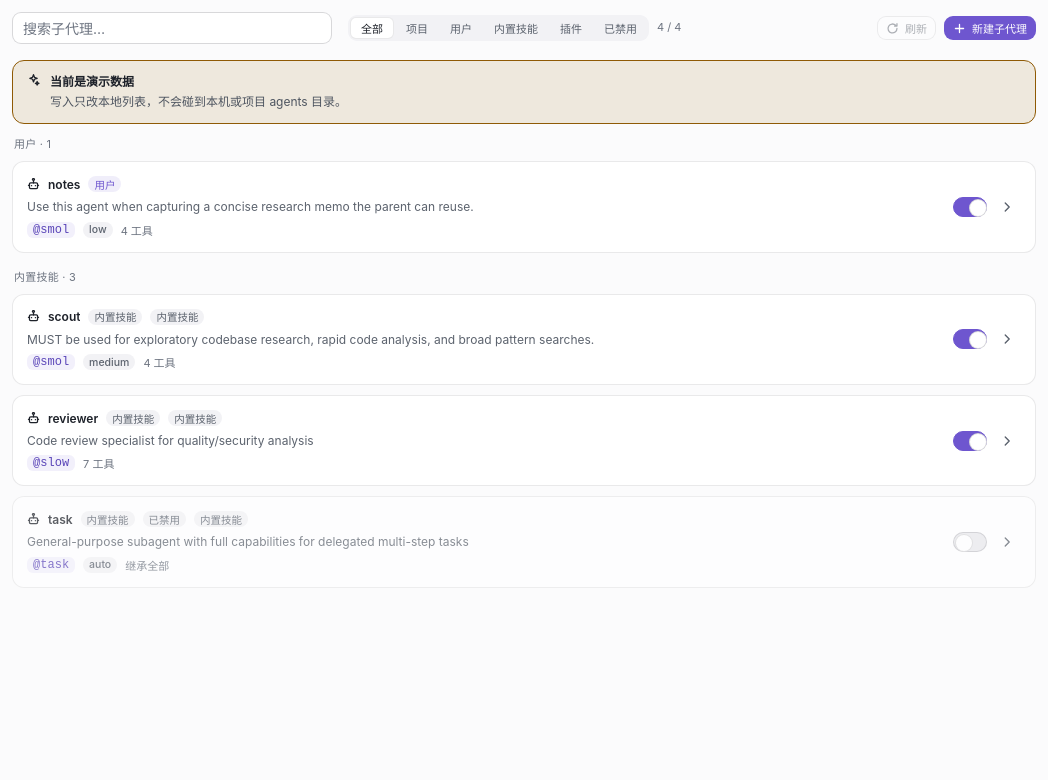
SubagentsPanel create editor › adds a preview draft to the local list on save
Click the button "新建子代理": (990,28) [944, 16, 1036, 40]
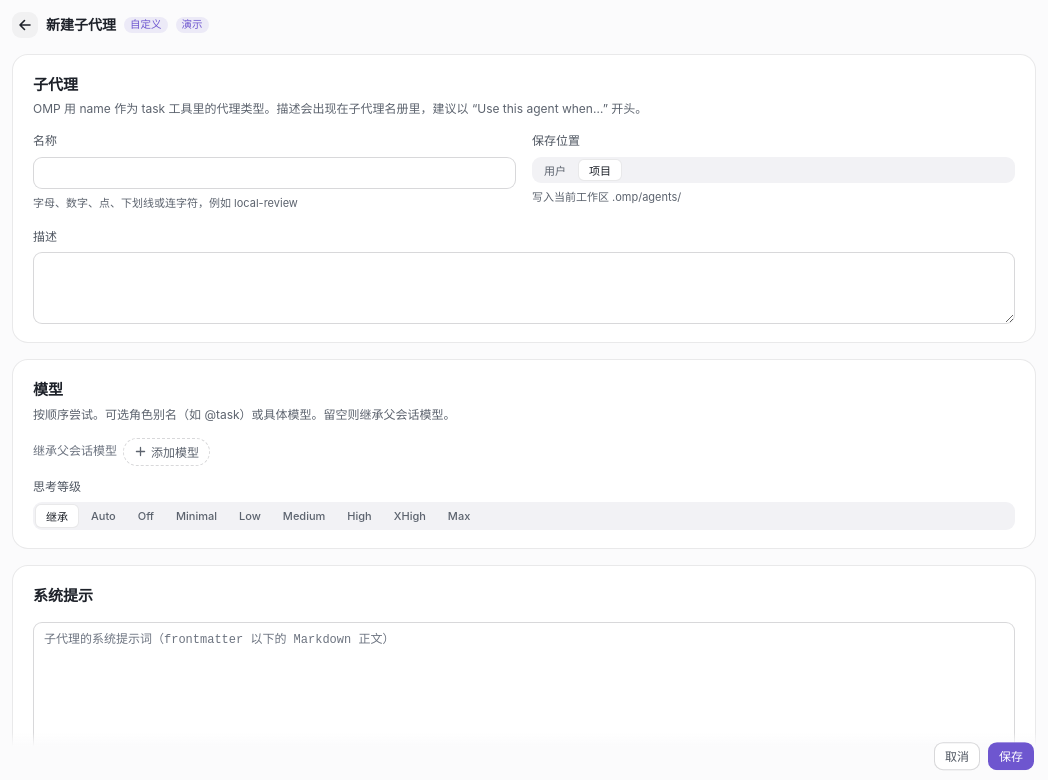
expect the button "保存" is shown: met, box [988, 742, 1034, 770]
In the field labelled "名称": (274,173) [33, 157, 516, 189], type "memo"
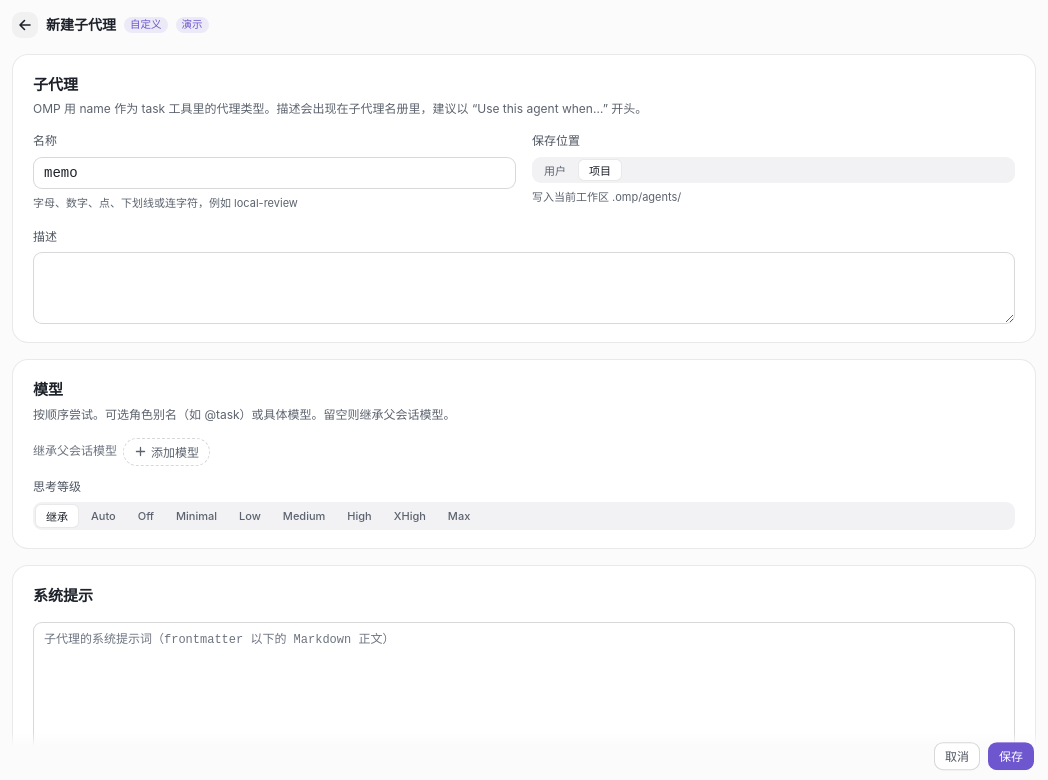
In the text box labelled "描述": (524,288) [33, 252, 1015, 324], type "Use this agent when writing memos."
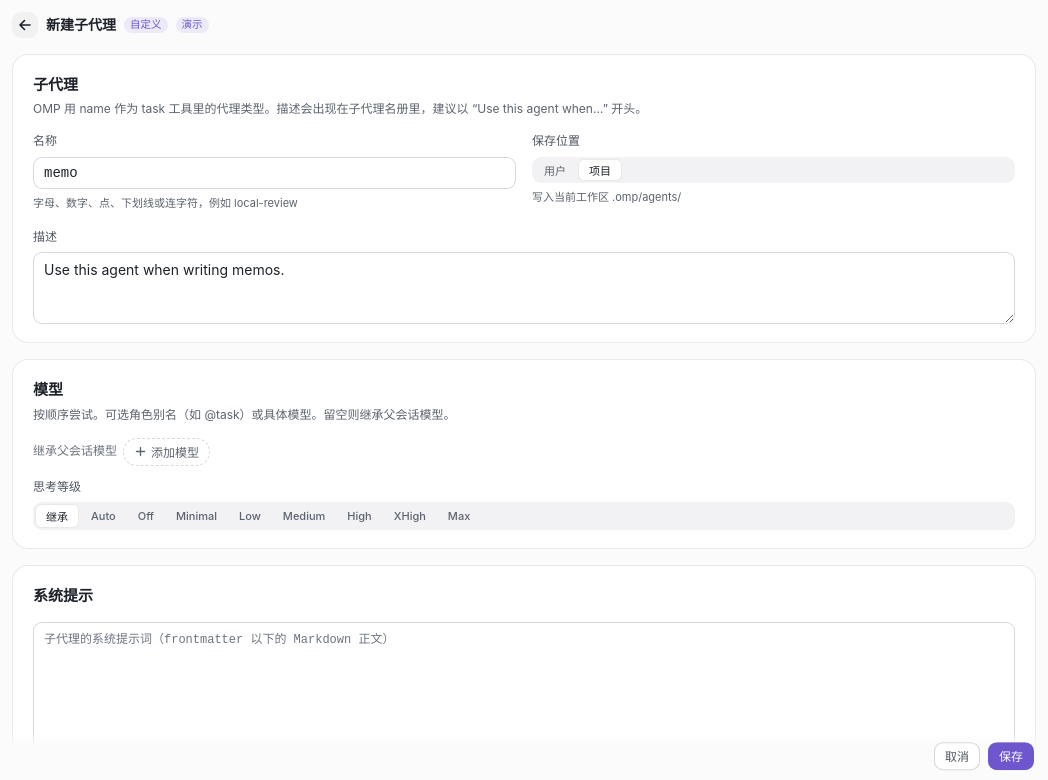
Click the button "保存": (1011,756) [988, 742, 1034, 770]
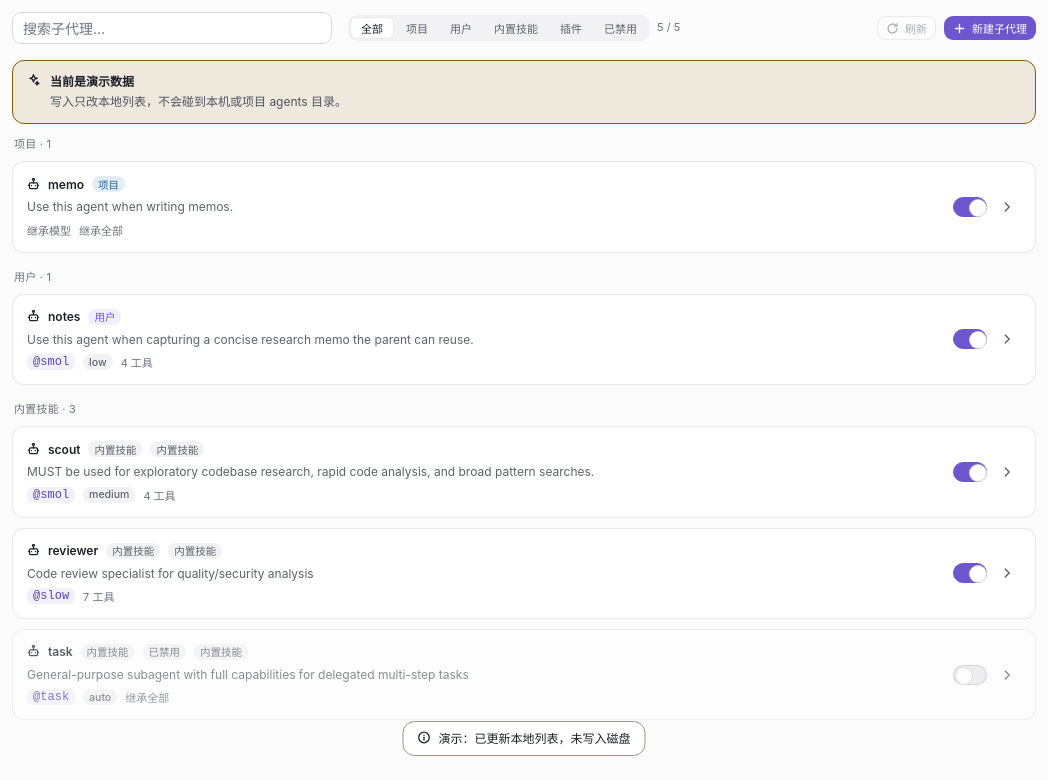
expect the message shows "已更新本地列表": met, box [438, 731, 630, 746]
expect the button named "打开 memo 详情" is shown: met, box [993, 193, 1021, 221]
